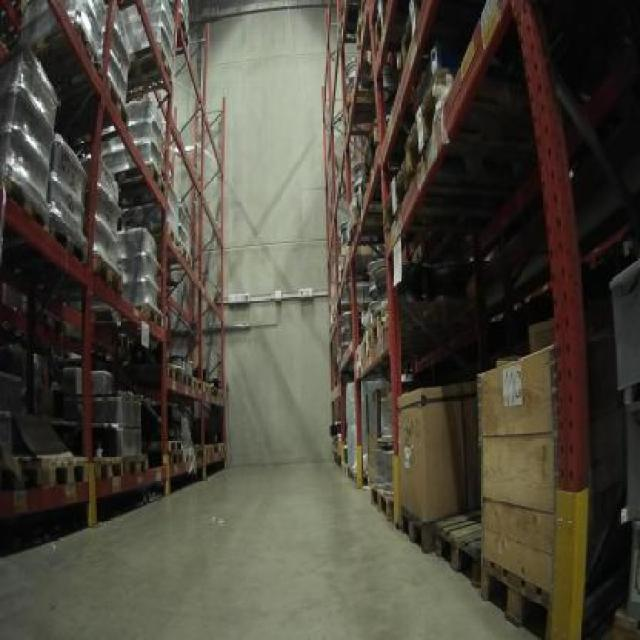ground: (0, 458, 549, 638)
pallet: (396, 504, 486, 590), (478, 551, 556, 638), (5, 454, 94, 492), (2, 174, 55, 235), (92, 452, 151, 481), (90, 252, 124, 295), (170, 362, 213, 395), (370, 483, 396, 519)
